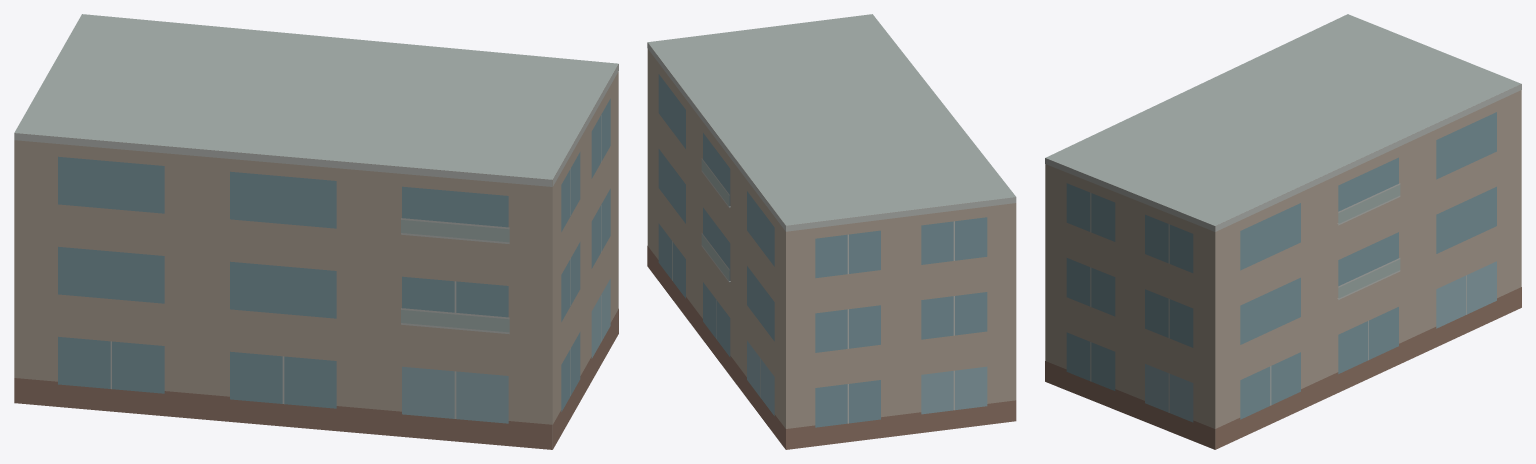
File: survey-upis-32772375.glb
The picture shows the model from 3 angles, left to right: view 1: azimuth 30°, elevation 25°; view 2: azimuth 150°, elevation 25°; view 3: azimuth 270°, elevation 25°; orthographic projection. The views are drawn at different scales.
Visible parts, largest first — view 1: survey-upis-32772375.tmp; view 2: survey-upis-32772375.tmp; view 3: survey-upis-32772375.tmp.
Boxes of the visible parts, box(x1,y1,x2,y2) form: survey-upis-32772375.tmp: box(14, 14, 618, 449); survey-upis-32772375.tmp: box(647, 14, 1016, 449); survey-upis-32772375.tmp: box(1045, 14, 1521, 449).
Bounding box in the file's own units: 18.61 × 9.15 × 17.67.
